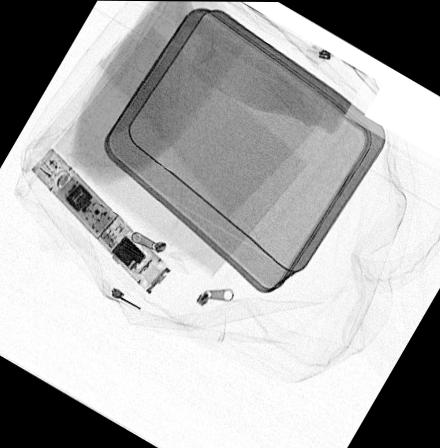Baton: (27, 143, 173, 295)
